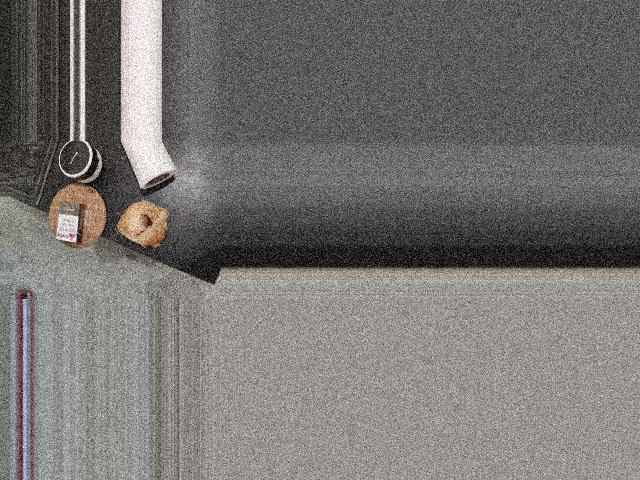onion: (115, 199, 170, 250)
